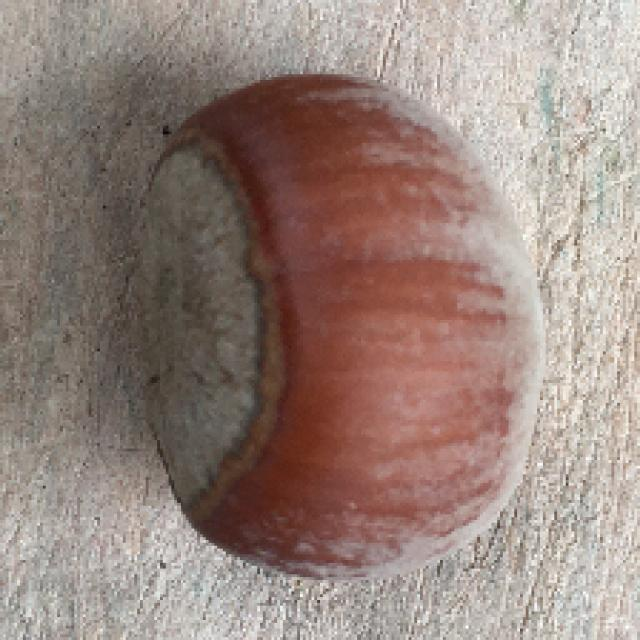qualityHazelnut: (128, 69, 546, 586)
